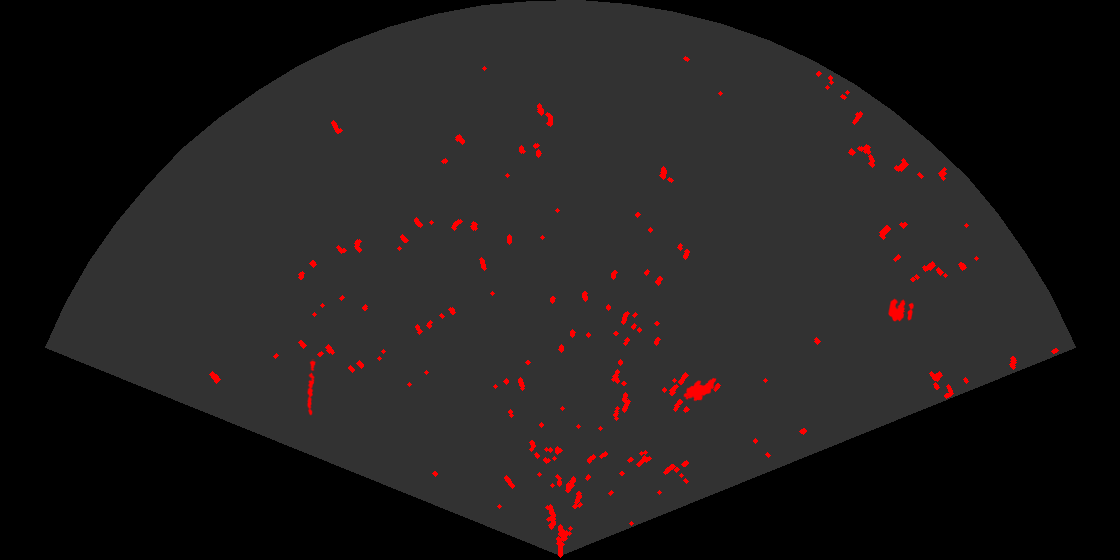AUV: (682, 376, 718, 403)
ball: (887, 297, 915, 323)
chain: (305, 359, 318, 416)
